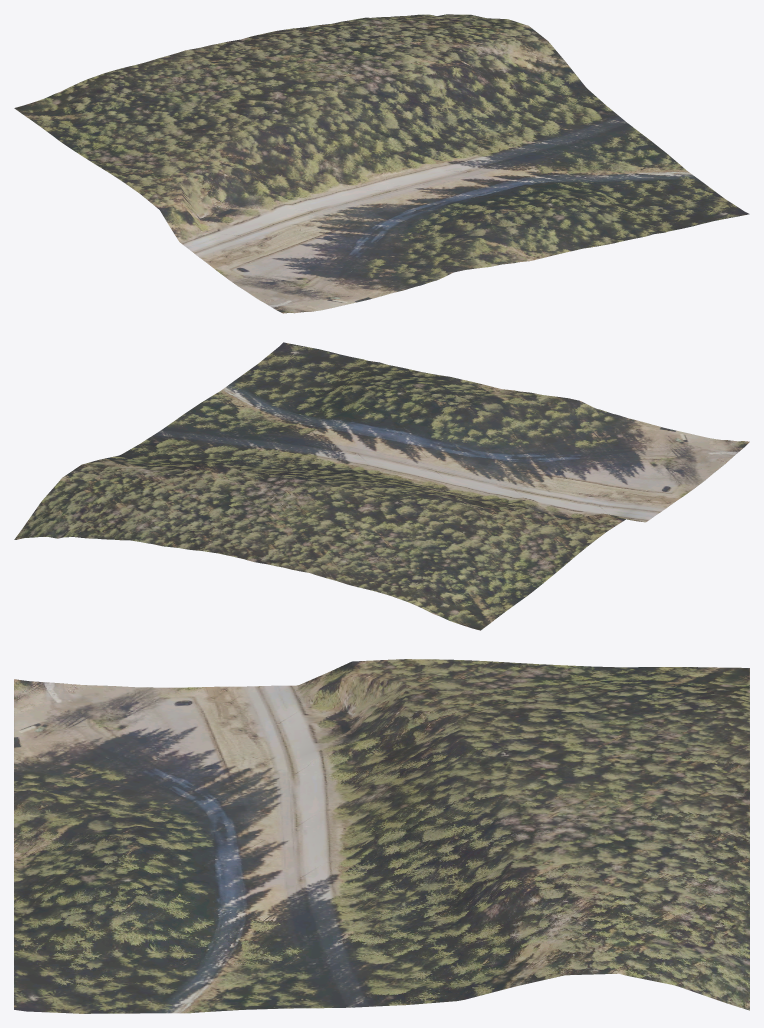
Rendered from CM_Terrain_24489230_6822456.fbx.
3 views of the same model, one above another, from view 1: azimuth 30°, elevation 25°; view 2: azimuth 150°, elevation 25°; view 3: azimuth 270°, elevation 25° (orthographic). The views are drawn at different scales.
Parts seen in each view (by area): view 1: CM_Terrain_24489230_6822456_LOD0; view 2: CM_Terrain_24489230_6822456_LOD0; view 3: CM_Terrain_24489230_6822456_LOD0.
Part boxes in pixels (x1,y1,x2,y2): CM_Terrain_24489230_6822456_LOD0: (14, 14, 749, 313); CM_Terrain_24489230_6822456_LOD0: (14, 342, 749, 630); CM_Terrain_24489230_6822456_LOD0: (14, 659, 749, 1013).
Size of what is drawn, in the model's own units: 205 by 20.24 by 205.
